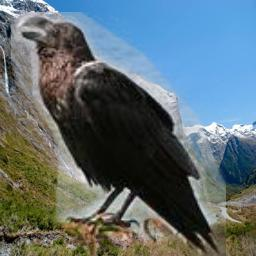Crow: (11, 12, 226, 256)
